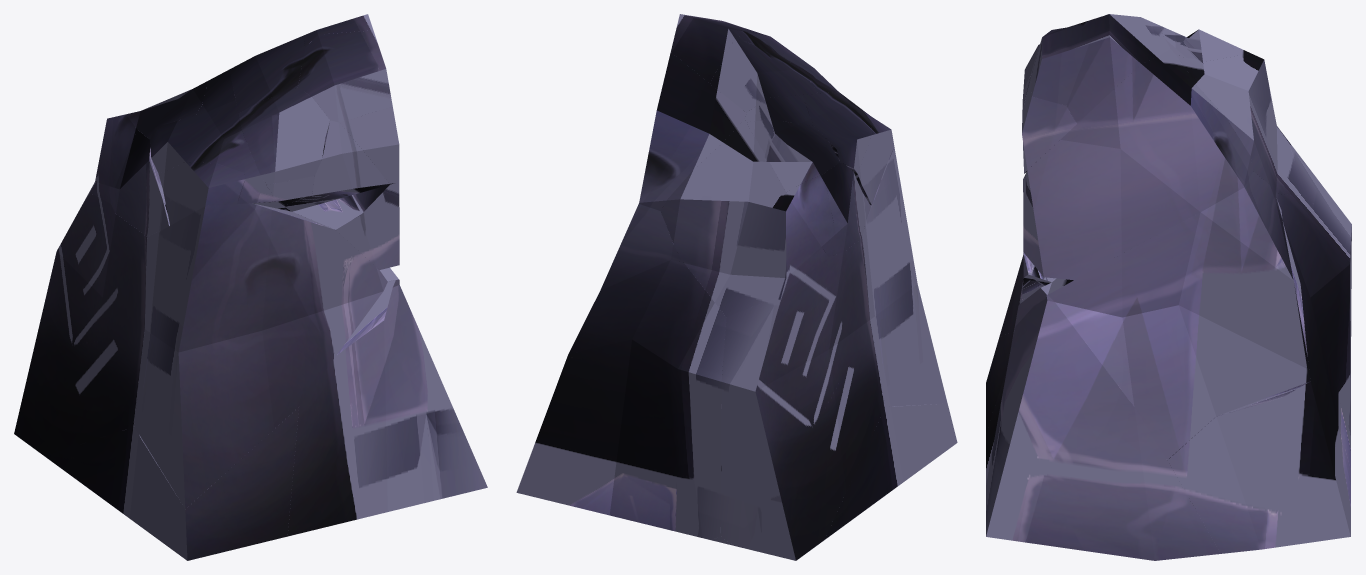
The model's file is Stone 4 Fragments.fbx.
3 renders of one model, left to right at view 1: azimuth 30°, elevation 25°; view 2: azimuth 150°, elevation 25°; view 3: azimuth 270°, elevation 25°, orthographic. The views are drawn at different scales.
Visible parts, largest first — view 1: Cube.003_cell.009, Cube.003_cell.003, Cube.003_cell, Cube.003_cell.008, Cube.003_cell.001_cell.006, Cube.003_cell.001_cell, Cube.003_cell.004_cell.002, Cube.003_cell.007, Cube.003_cell.004_cell, Cube.003_cell.004_cell.006, Cube.003_cell.001_cell.003, Cube.003_cell.001_cell.001 (+8 smaller); view 2: Cube.003_cell.005, Cube.003_cell, Cube.003_cell.006, Cube.003_cell.009, Cube.003_cell.007, Cube.003_cell.008, Cube.003_cell.002, Cube.003_cell.001_cell.001, Cube.003_cell.004_cell.004, Cube.003_cell.004_cell.002, Cube.003_cell.001_cell.007, Cube.003_cell.004_cell (+5 smaller); view 3: Cube.003_cell.002, Cube.003_cell.003, Cube.003_cell.005, Cube.003_cell.007, Cube.003_cell.006, Cube.003_cell.001_cell.007, Cube.003_cell.001_cell.006, Cube.003_cell.001_cell.004, Cube.003_cell, Cube.003_cell.009, Cube.003_cell.004_cell.004, Cube.003_cell.008 (+1 smaller).
Part boxes in pixels (x1,y1,x2,y2): Cube.003_cell.009: (134,203,387,508); Cube.003_cell.003: (287,279,487,536); Cube.003_cell: (14,192,147,456); Cube.003_cell.008: (45,407,298,560); Cube.003_cell.001_cell.006: (298,30,392,122); Cube.003_cell.001_cell: (238,87,329,184); Cube.003_cell.004_cell.002: (150,100,254,172); Cube.003_cell.007: (292,176,399,269); Cube.003_cell.004_cell: (113,130,169,236); Cube.003_cell.004_cell.006: (158,162,244,225); Cube.003_cell.001_cell.003: (312,120,389,201); Cube.003_cell.001_cell.001: (229,36,305,113); Cube.003_cell.005: (516,260,726,539); Cube.003_cell: (720,238,885,560); Cube.003_cell.006: (660,119,827,317); Cube.003_cell.009: (862,147,947,406); Cube.003_cell.007: (639,52,746,210); Cube.003_cell.008: (711,403,957,545); Cube.003_cell.002: (565,204,680,363); Cube.003_cell.001_cell.001: (709,38,818,112); Cube.003_cell.004_cell.004: (746,118,839,192); Cube.003_cell.004_cell.002: (802,92,872,175); Cube.003_cell.001_cell.007: (671,14,743,82); Cube.003_cell.004_cell: (823,162,870,254); Cube.003_cell.002: (1048,171,1310,459); Cube.003_cell.003: (986,282,1220,560); Cube.003_cell.005: (1167,193,1350,553); Cube.003_cell.007: (1023,49,1253,280); Cube.003_cell.006: (1176,53,1306,196); Cube.003_cell.001_cell.007: (1066,14,1154,123); Cube.003_cell.001_cell.006: (1031,16,1103,105); Cube.003_cell.001_cell.004: (1022,72,1076,173); Cube.003_cell: (1288,141,1351,336); Cube.003_cell.009: (999,252,1056,336); Cube.003_cell.004_cell.004: (1175,29,1239,61); Cube.003_cell.008: (986,332,1013,433).
Bounding box in the file's own units: 1870 × 2575 × 1767.
